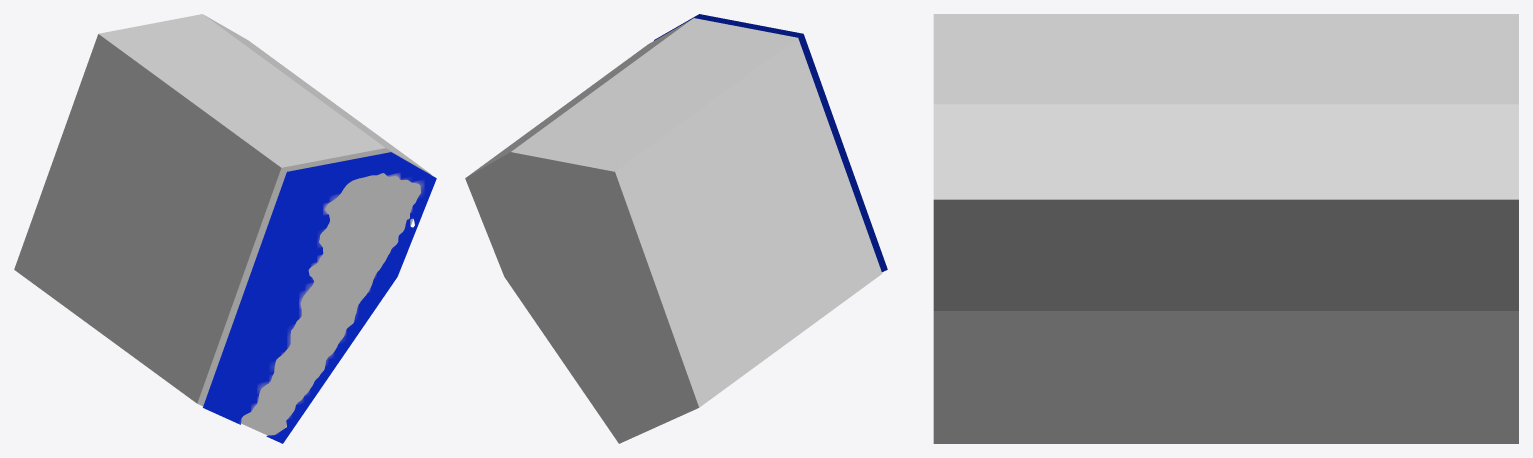
3 renders of one model, left to right at view 1: azimuth 30°, elevation 25°; view 2: azimuth 150°, elevation 25°; view 3: azimuth 270°, elevation 25°, orthographic. The views are drawn at different scales.
Parts seen in each view (by area): view 1: Out_5_0, Out_5_1; view 2: Out_5_0, Out_5_1; view 3: Out_5_0.
Boxes of the visible parts, x1,y1,x2,y2 form: Out_5_0: (14, 14, 431, 435); Out_5_1: (203, 152, 436, 443); Out_5_0: (465, 18, 882, 443); Out_5_1: (654, 14, 887, 272); Out_5_0: (933, 14, 1518, 443).
Bounding box in the file's own units: 0.3691 × 0.4084 × 0.515.
2 materials, 1 textured.
